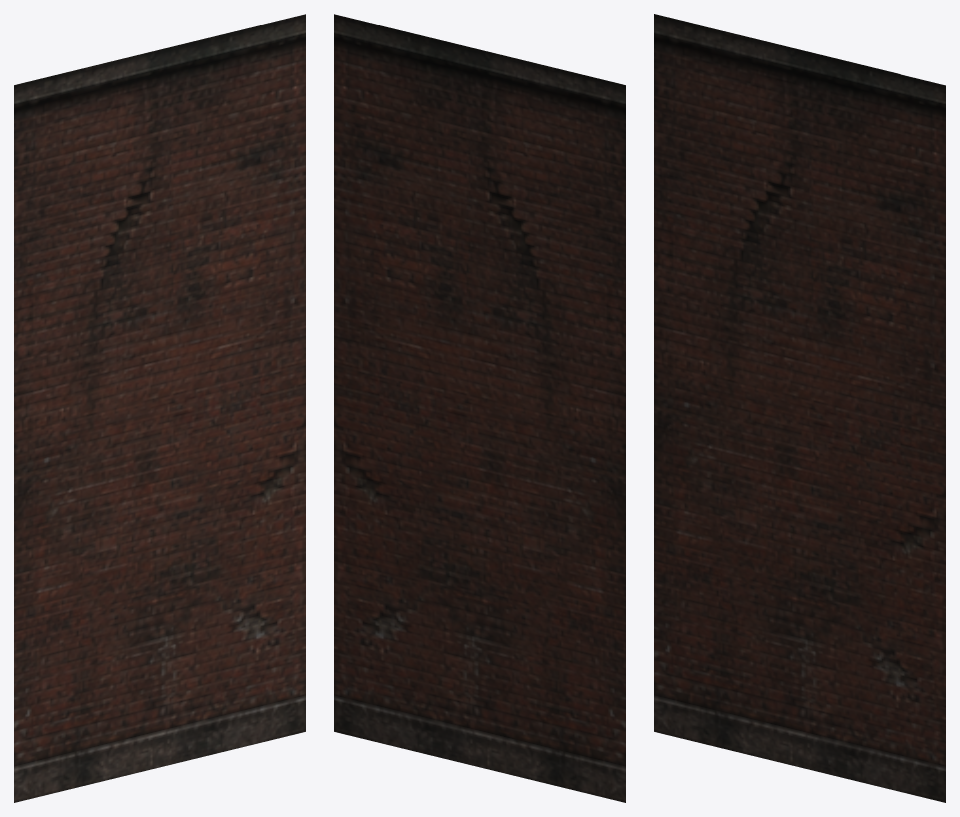
File: BrickWall.fbx
The picture shows the model from 3 angles, left to right: view 1: azimuth 30°, elevation 25°; view 2: azimuth 150°, elevation 25°; view 3: azimuth 330°, elevation 25°; orthographic projection.
Parts seen in each view (by area): view 1: HighwayTunel.001; view 2: HighwayTunel.001; view 3: HighwayTunel.001.
Boxes of the visible parts, left/top/right/bottom form: HighwayTunel.001: left=14, top=14, right=305, bottom=802; HighwayTunel.001: left=334, top=14, right=625, bottom=802; HighwayTunel.001: left=654, top=14, right=945, bottom=802.
Bounding box in the file's own units: 2 × 4.7 × 5.91e-07.
